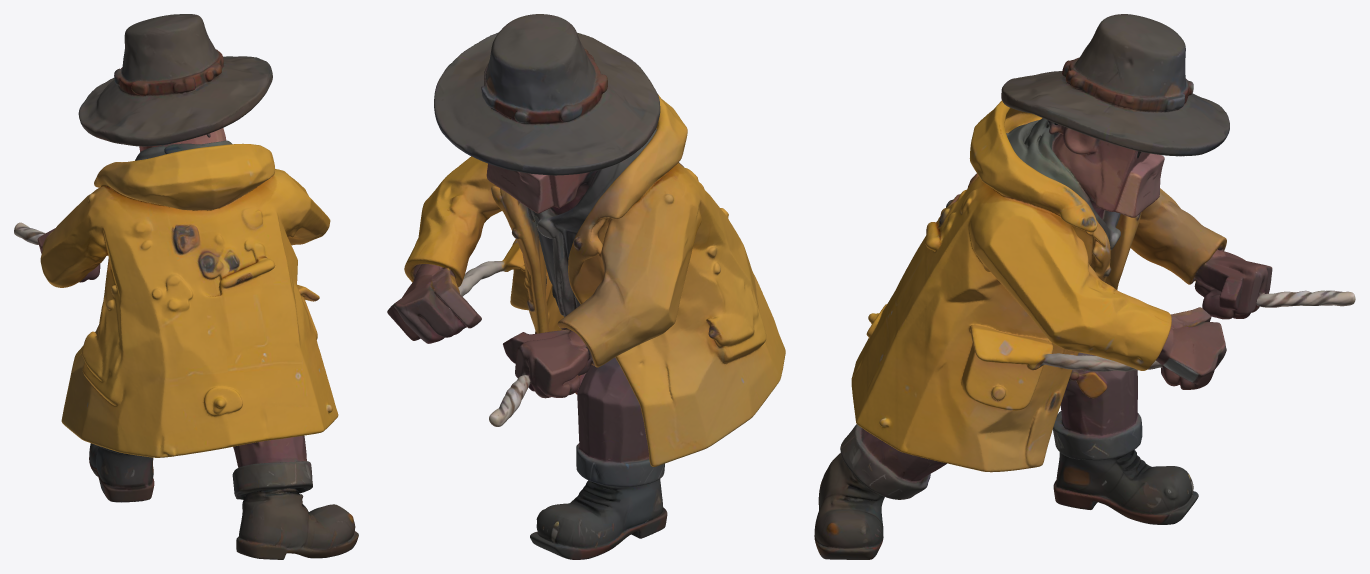
File: keeper-c.glb
3 views of the same model, side by side, from view 1: azimuth 30°, elevation 25°; view 2: azimuth 150°, elevation 25°; view 3: azimuth 270°, elevation 25° (orthographic). The views are drawn at different scales.
Parts seen in each view (by area): view 1: tripo_node_66ee8108-1b46-4e94-9efe-e9ff1680757c; view 2: tripo_node_66ee8108-1b46-4e94-9efe-e9ff1680757c; view 3: tripo_node_66ee8108-1b46-4e94-9efe-e9ff1680757c.
Part boxes in pixels (bbox=[...]): tripo_node_66ee8108-1b46-4e94-9efe-e9ff1680757c: bbox=[14, 14, 358, 559]; tripo_node_66ee8108-1b46-4e94-9efe-e9ff1680757c: bbox=[387, 14, 785, 559]; tripo_node_66ee8108-1b46-4e94-9efe-e9ff1680757c: bbox=[814, 14, 1355, 559].
Size of the model in its own units: 1.15 by 1.85 by 1.77.
1 material, 1 textured.
